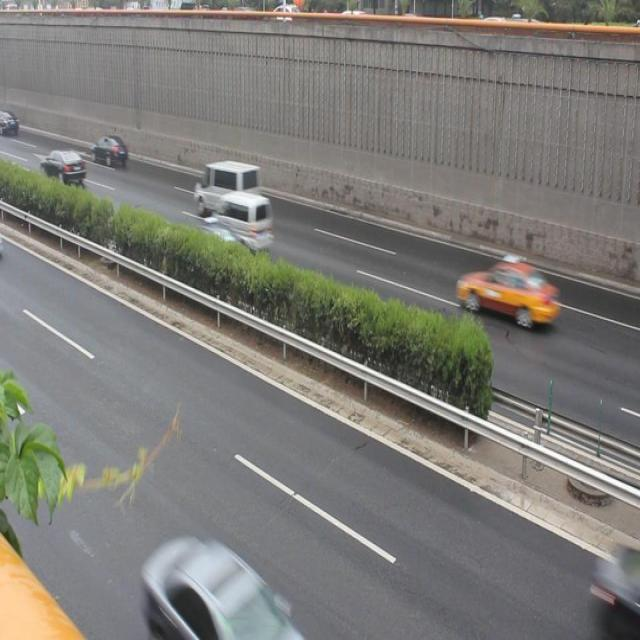car: (137, 524, 301, 640), (451, 255, 561, 332), (180, 220, 247, 272), (39, 144, 86, 188), (88, 132, 128, 170)
truck: (194, 153, 259, 213), (213, 192, 276, 250)
